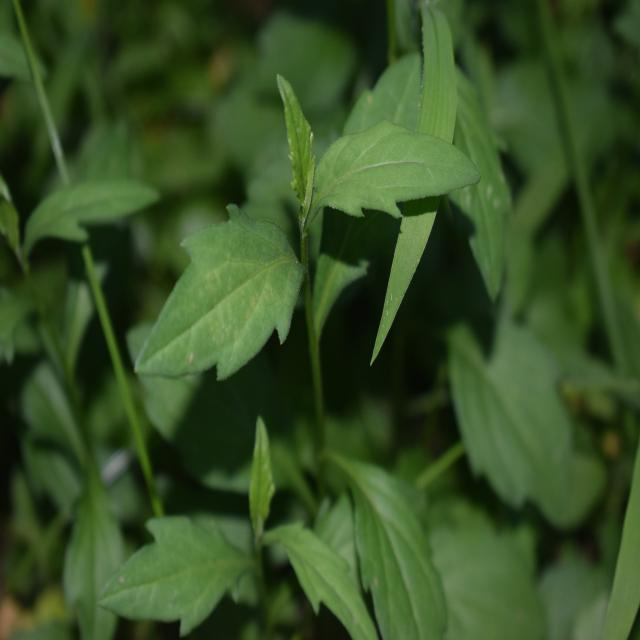Indian aster: (141, 68, 469, 621)
